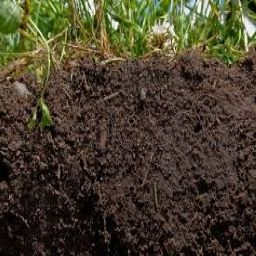dirt: (1, 57, 253, 252)
grass: (0, 0, 254, 52)
